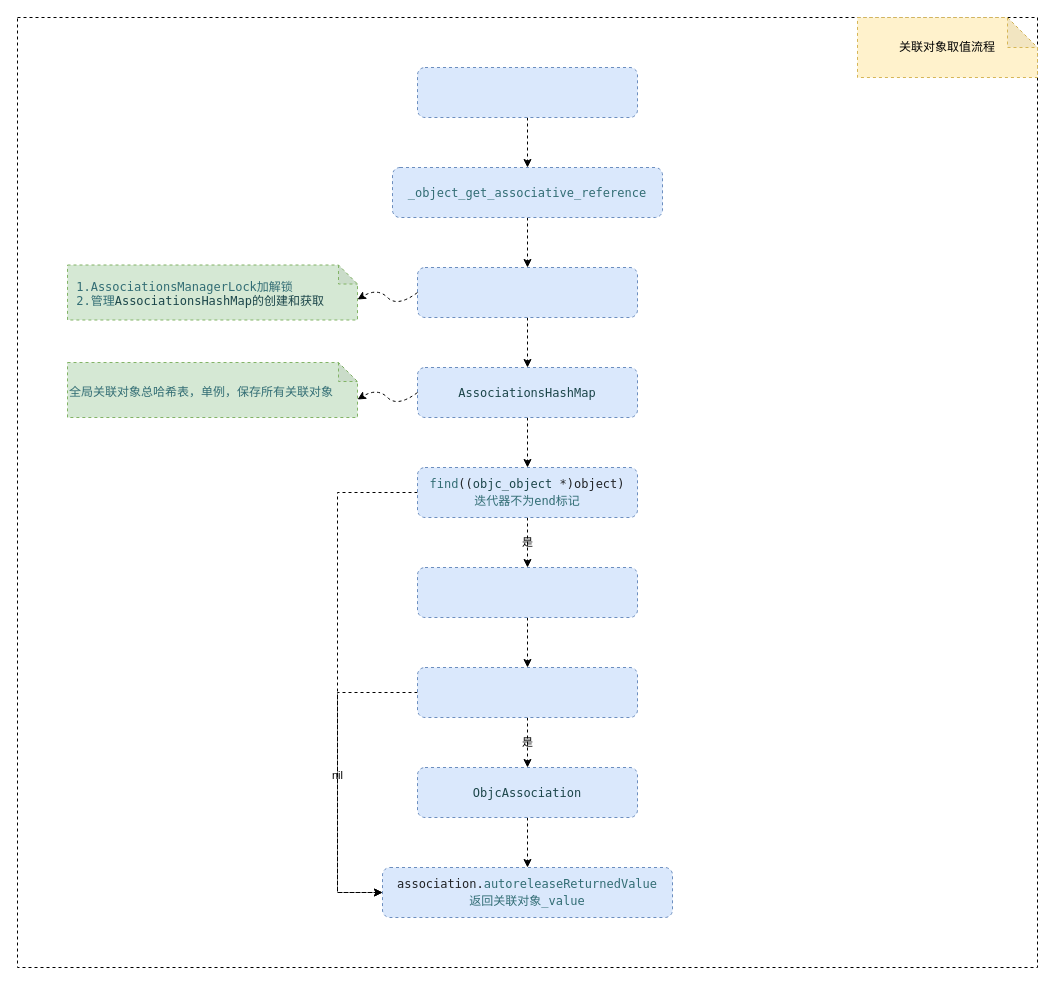
This 1055x985 diagram has some shape labels left out. Each missing label, with the centre of its shape:
"AssociationsManager" goes at (527,292).
"find (key) 迭代器不为end标记" goes at (527,692).
"objc_getAssociatedObject" goes at (527,92).
"ObjectAssociationMap object对应的map" goes at (527,592).
